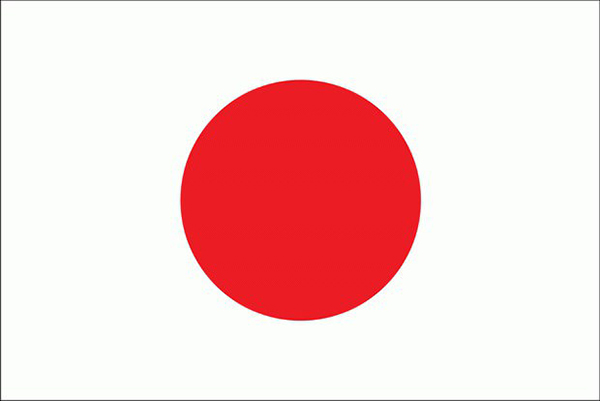su birakma alani: (181, 79, 421, 321)
